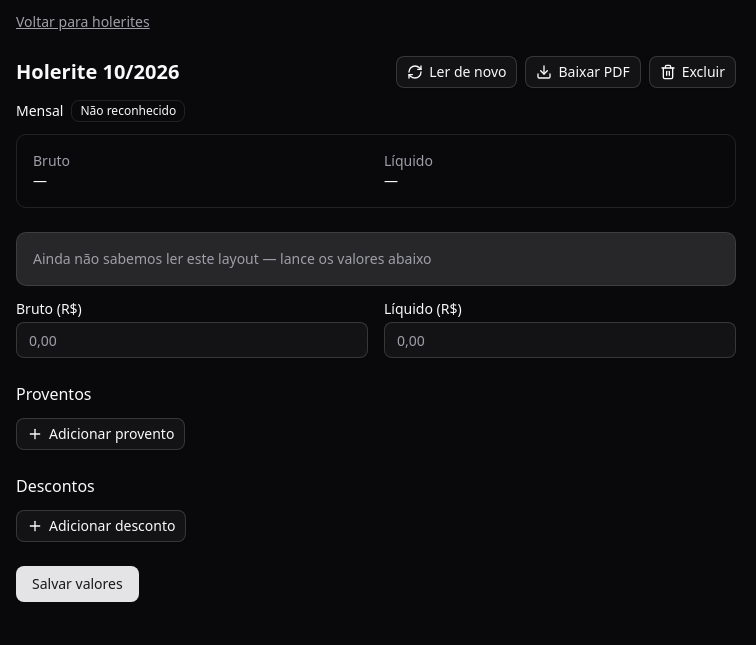
Scenario: PayslipDetail › requires the net amount in the editor
Click the button "Salvar valores": click(77, 584) [16,566,139,602]
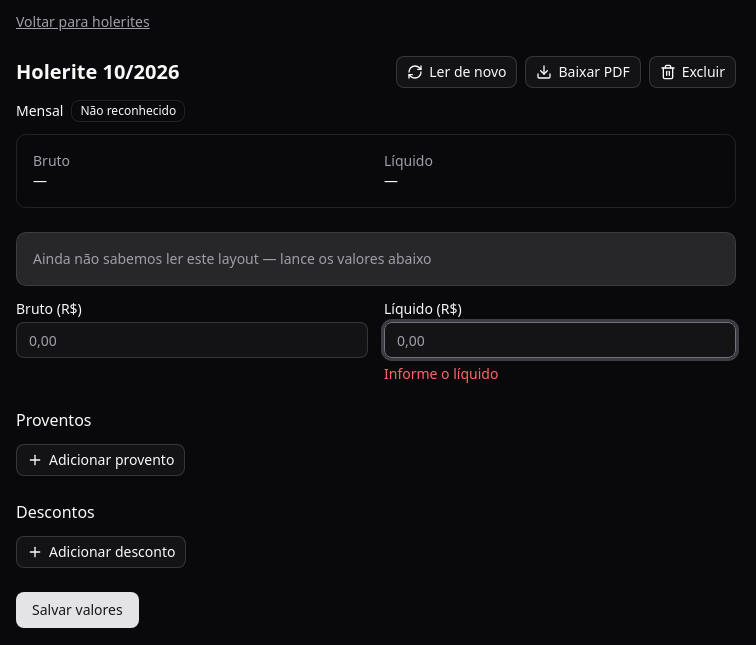
Result: the message "Informe o líquido" is shown at [384,364,498,383]
